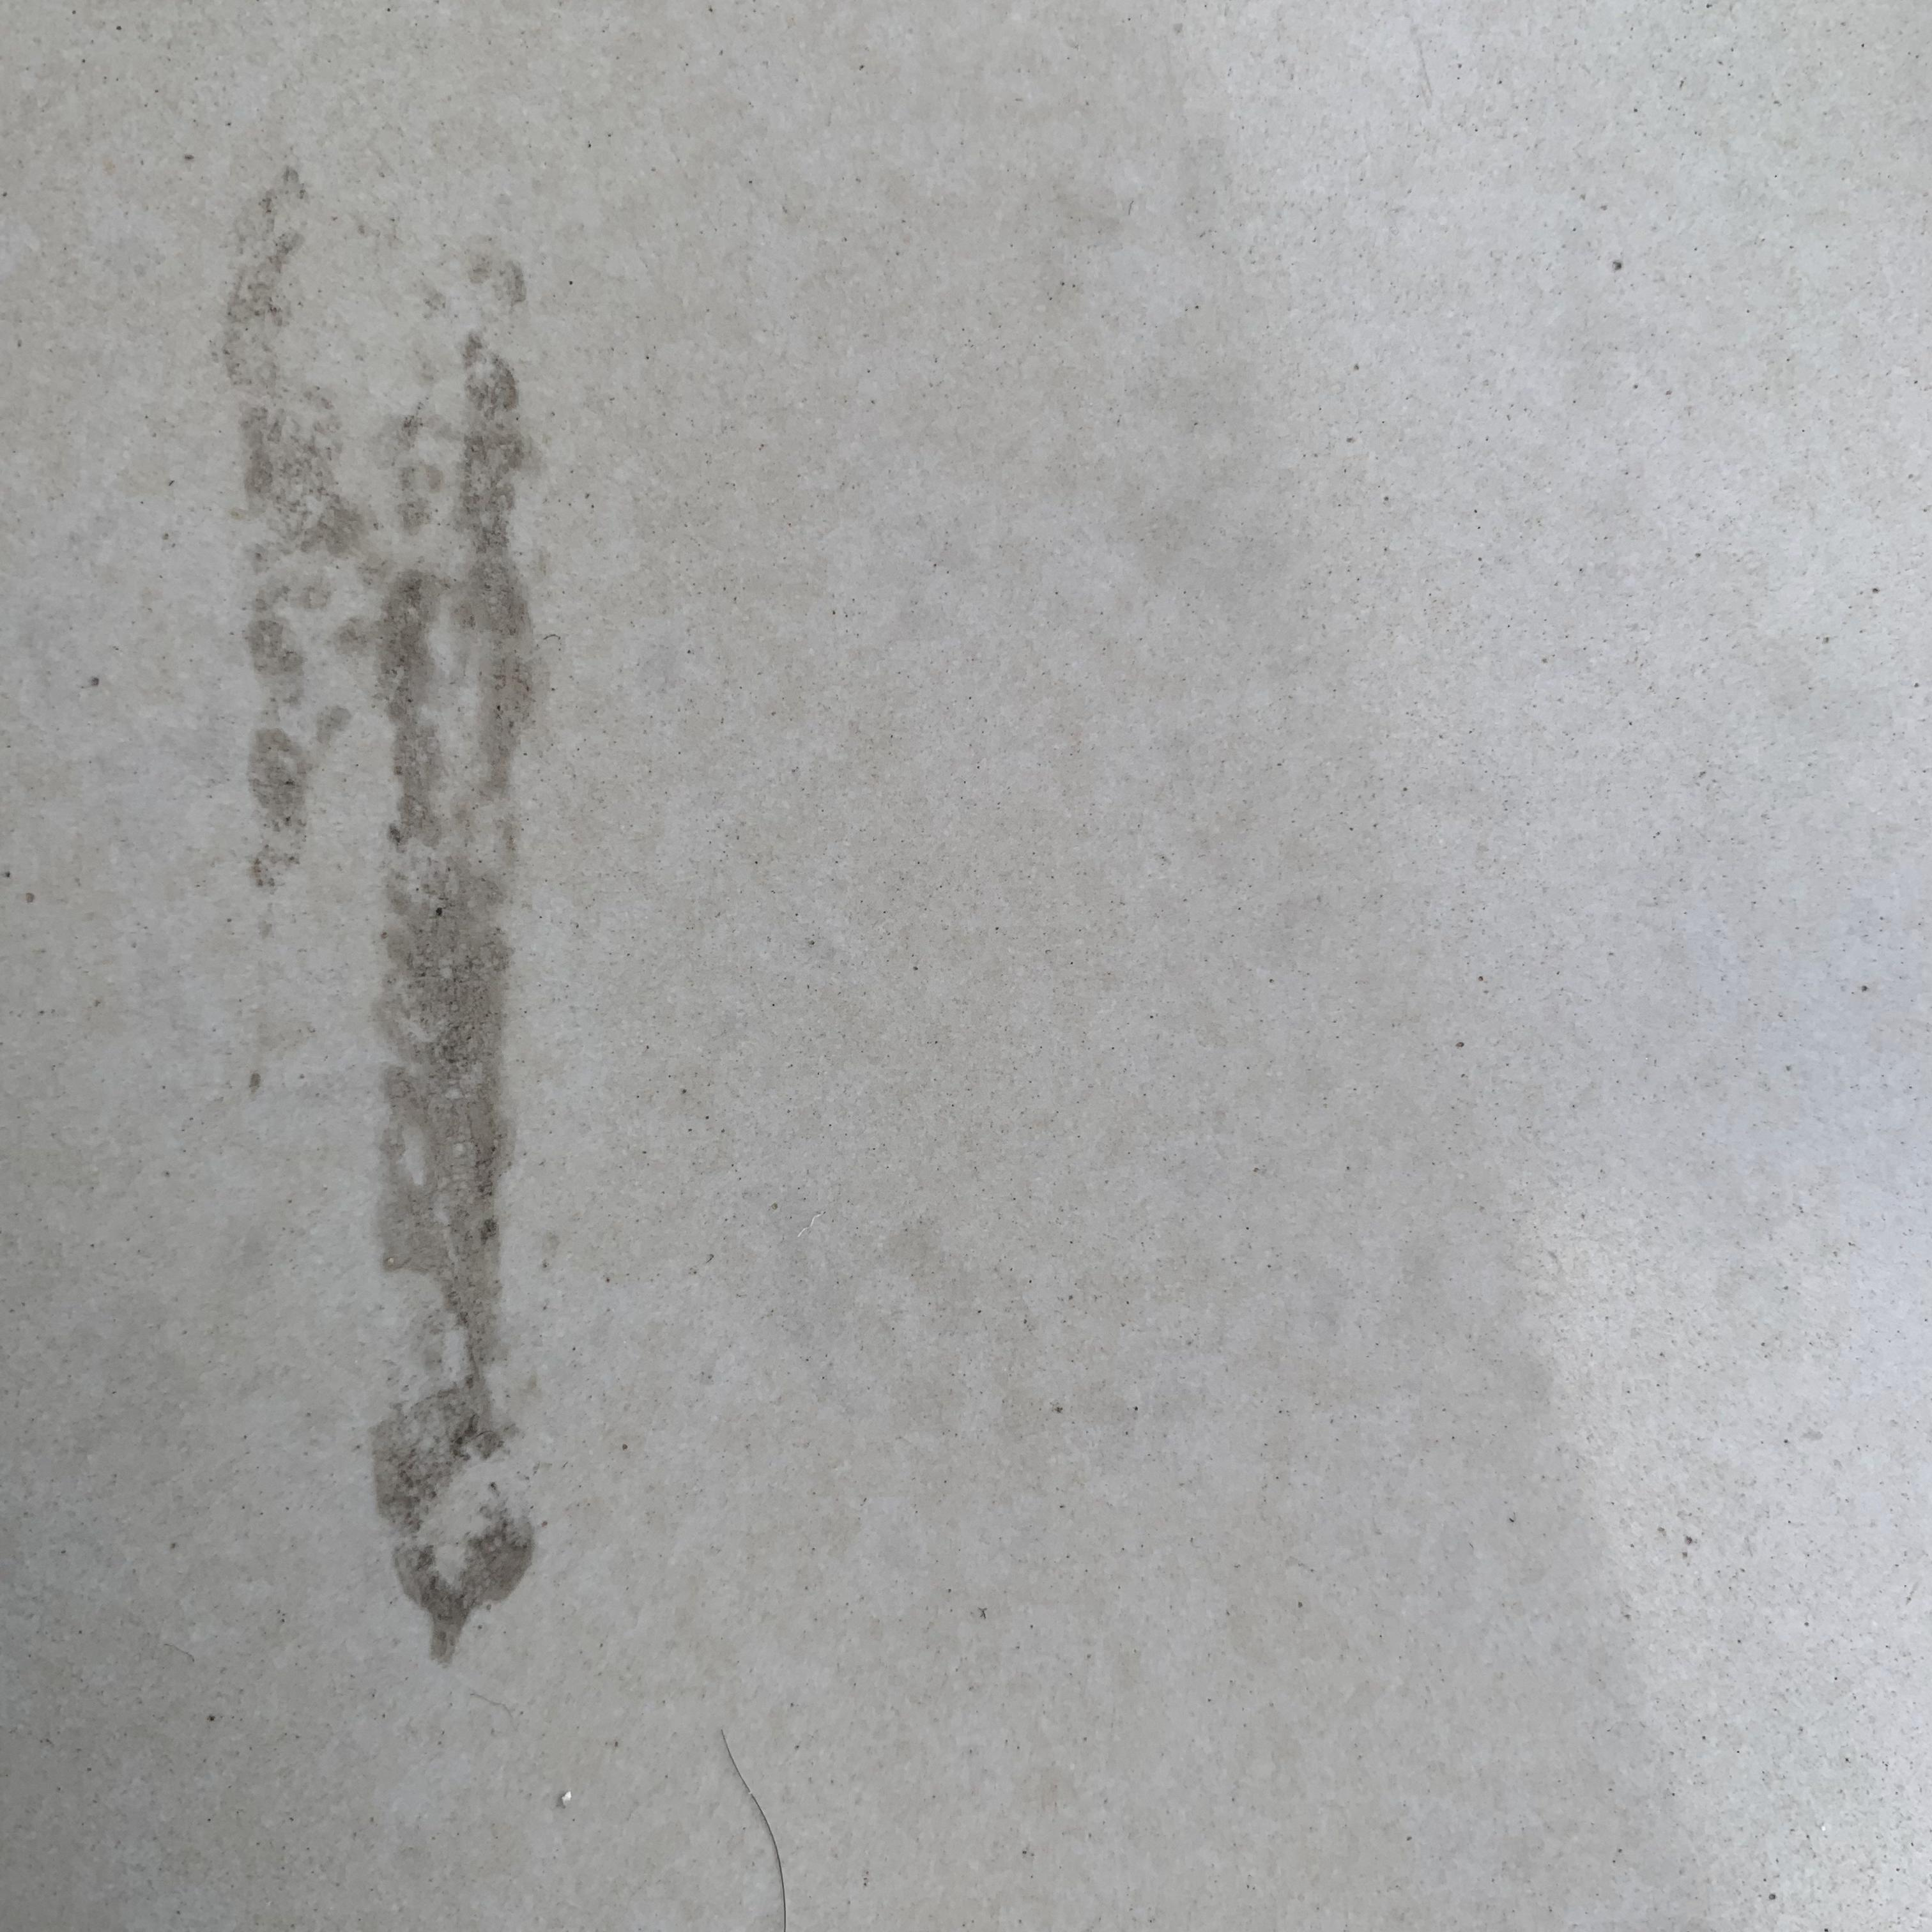grey spot: (223, 173, 559, 1667)
